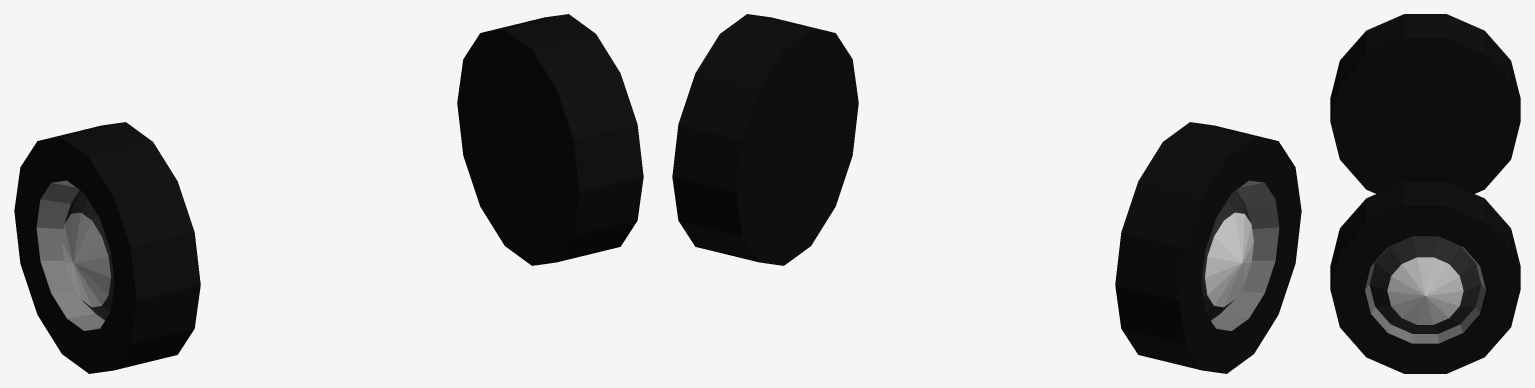
Rendered from WheelPickUpBack.fbx.
3 views of the same model, side by side, from view 1: azimuth 30°, elevation 25°; view 2: azimuth 150°, elevation 25°; view 3: azimuth 270°, elevation 25° (orthographic). The views are drawn at different scales.
Visible parts, largest first — view 1: WheelPickUpBack; view 2: WheelPickUpBack; view 3: WheelPickUpBack.
Boxes of the visible parts, x1=… form: WheelPickUpBack: x1=14, y1=14, x2=643, y2=373; WheelPickUpBack: x1=672, y1=14, x2=1301, y2=373; WheelPickUpBack: x1=1330, y1=14, x2=1520, y2=373.
Size of the model in its own units: 1.51 by 0.6094 by 0.6251.
